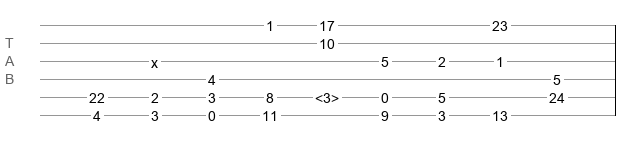0: (208, 108, 216, 118), (381, 90, 389, 100)
1: (266, 18, 274, 28), (496, 54, 504, 64)
10: (319, 36, 335, 46)
11: (262, 108, 278, 118)
13: (492, 108, 508, 118)
17: (319, 18, 335, 28)
2: (151, 90, 159, 100), (438, 54, 446, 64)
22: (89, 90, 105, 100)
23: (492, 18, 508, 28)
24: (549, 90, 565, 100)
3: (151, 108, 159, 118), (208, 90, 216, 100), (438, 108, 446, 118)
4: (93, 108, 101, 118), (208, 72, 216, 82)
5: (381, 54, 389, 64), (438, 90, 446, 100), (553, 72, 561, 82)
8: (266, 90, 274, 100)
9: (381, 108, 389, 118)
harmonic: (315, 90, 339, 100)
x: (151, 55, 158, 63)
